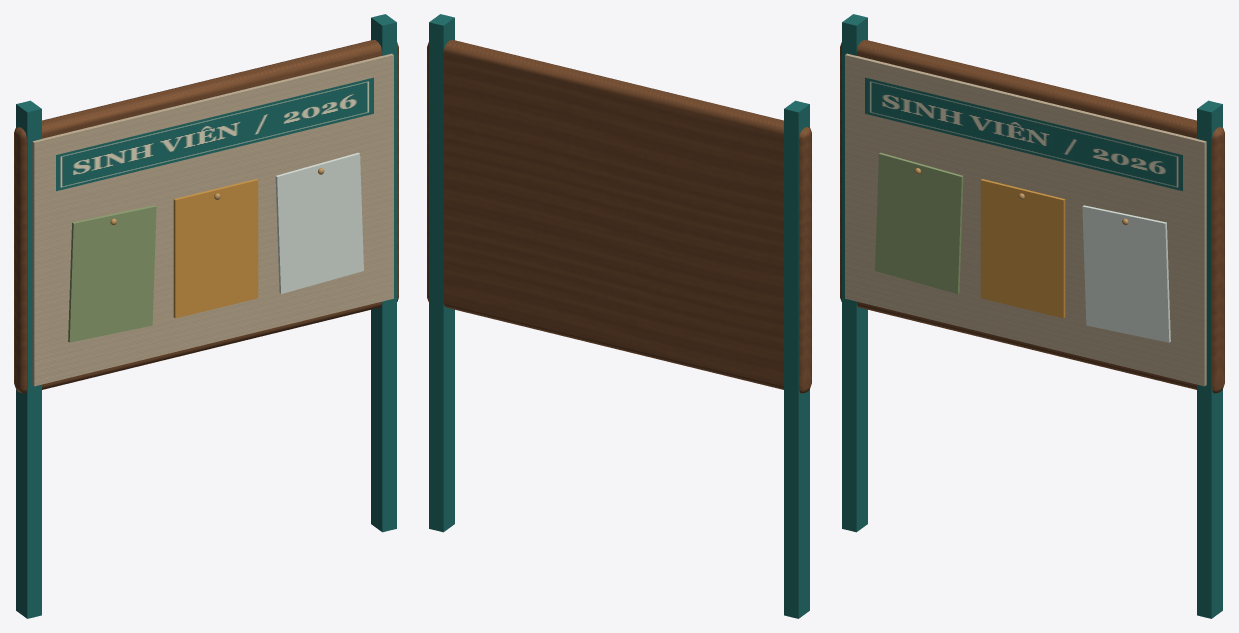
File: campus-posterboard-85585566a59e.glb
The picture shows the model from 3 angles, left to right: view 1: azimuth 30°, elevation 25°; view 2: azimuth 150°, elevation 25°; view 3: azimuth 330°, elevation 25°; orthographic projection.
Visible parts, largest first — view 1: surface_linen, surface_teal, surface_walnut, surface_sign_SINH VIÊN / 2026teal#f8edcf, surface_ochre, surface_sage, surface_porcelain; view 2: surface_walnut, surface_teal; view 3: surface_linen, surface_teal, surface_walnut, surface_sign_SINH VIÊN / 2026teal#f8edcf, surface_ochre, surface_porcelain, surface_sage.
Boxes of the visible parts, x1,y1,x2,y2 form: surface_linen: [32, 53, 393, 386]; surface_teal: [16, 14, 396, 618]; surface_walnut: [14, 40, 398, 393]; surface_sign_SINH VIÊN / 2026teal#f8edcf: [56, 77, 373, 191]; surface_ochre: [173, 179, 258, 318]; surface_sage: [68, 205, 156, 342]; surface_porcelain: [275, 152, 363, 293]; surface_walnut: [427, 40, 811, 393]; surface_teal: [429, 14, 809, 618]; surface_linen: [845, 53, 1206, 386]; surface_teal: [842, 14, 1222, 618]; surface_walnut: [840, 40, 1224, 393]; surface_sign_SINH VIÊN / 2026teal#f8edcf: [865, 77, 1182, 191]; surface_ochre: [980, 179, 1065, 318]; surface_porcelain: [1082, 205, 1170, 342]; surface_sage: [875, 152, 963, 293].
Size of the model in its own units: 1.65 by 2.1 by 0.1342.
Materials: 8 (3 with a texture image).
